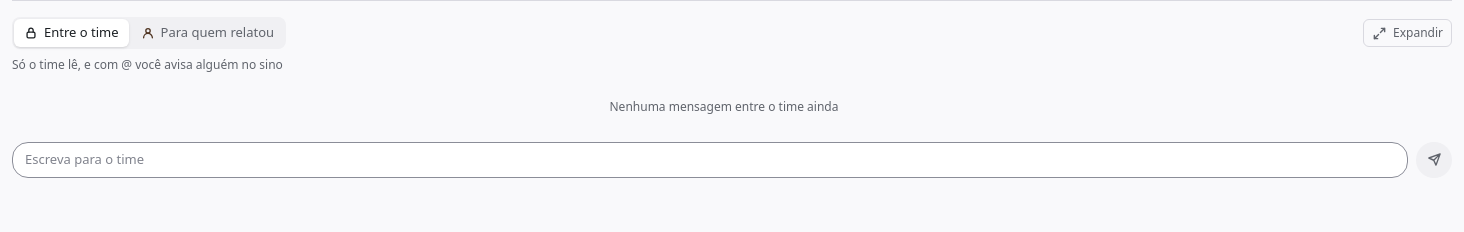
Test case: a resposta a quem relatou espera antes de sair › "Desfazer" devolve o texto ao campo, e nada sai
Click the tab "Para quem relatou". click: (207, 33)
box: 131,19 -> 284,47
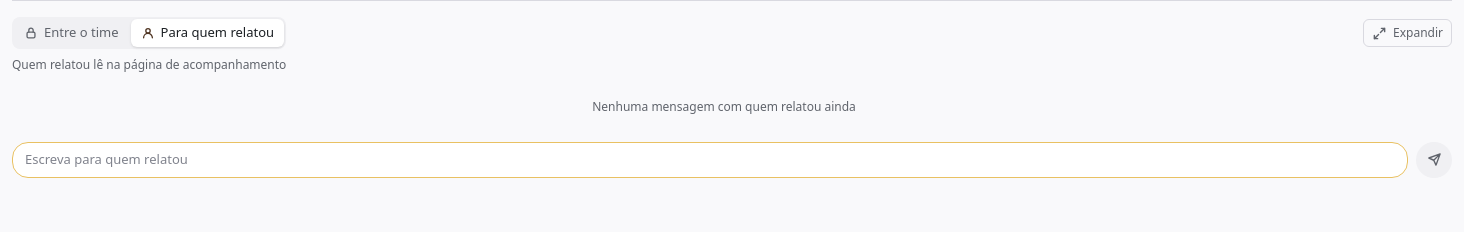
Type "Ja corrigimos, pode testar?" into the text box labelled "para quem relatou". click: (710, 160)
box: 12,142 -> 1408,178
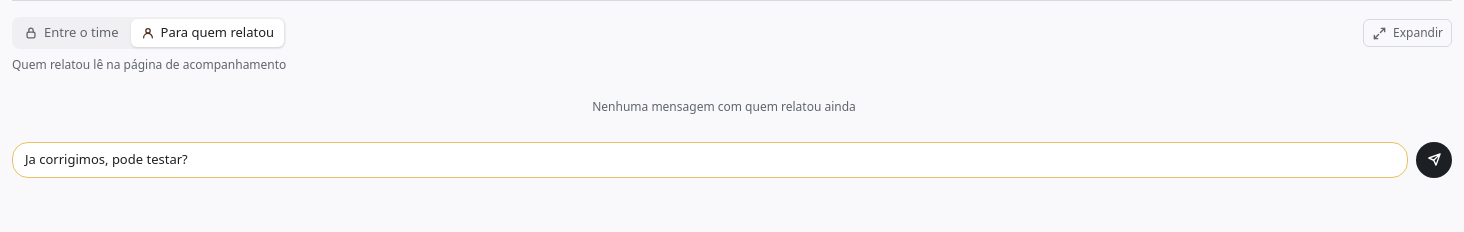
Click the button named "Escrever para quem relatou". click: (1434, 160)
box: 1416,142 -> 1452,178
Wait 3000 ms
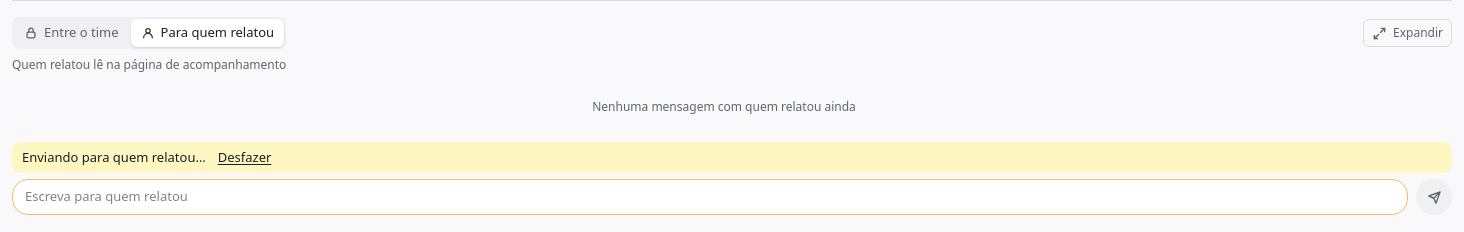
Click the button "Desfazer". click: (244, 157)
box: 218,148 -> 271,167
Wait 10000 ms
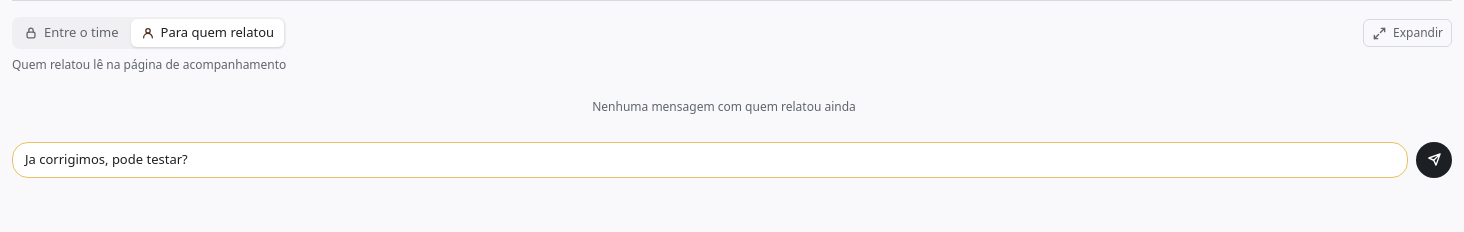
Expected: the text "Enviando para quem relatou…" is gone
